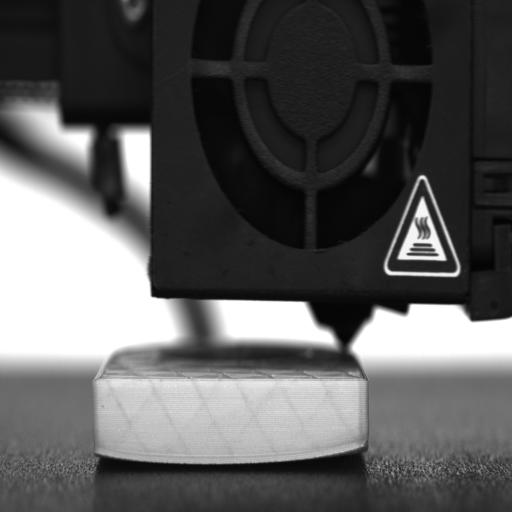warp: (290, 432, 374, 468), (90, 441, 162, 469)
